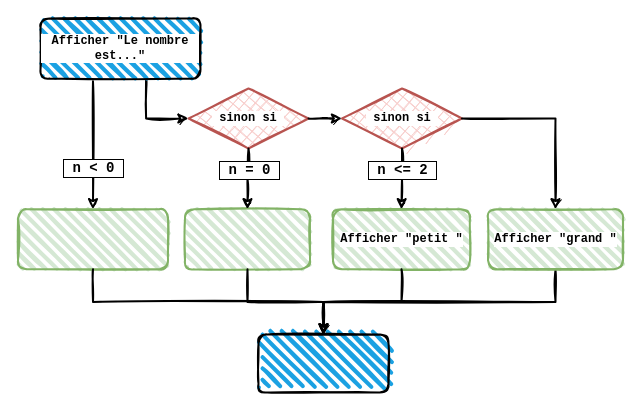
Some shapes in this 641 by 410 pixel diagram are drawn without their labels. The shapes that lost their labels are listed below. From the top down, each one's centre as x and y in pixels, then its label:
point (92, 239): Afficher "négatif "
point (247, 239): Afficher "nul "
point (323, 363): Afficher "FIN"
